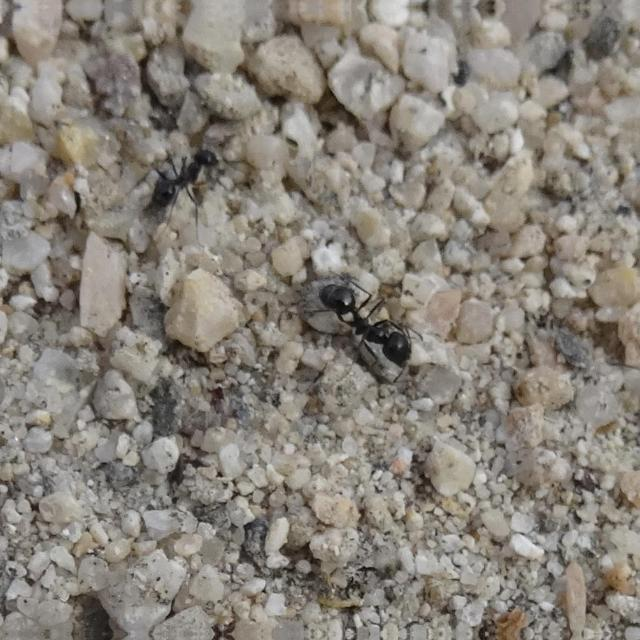Messor: (317, 274, 421, 392), (126, 137, 230, 226)
